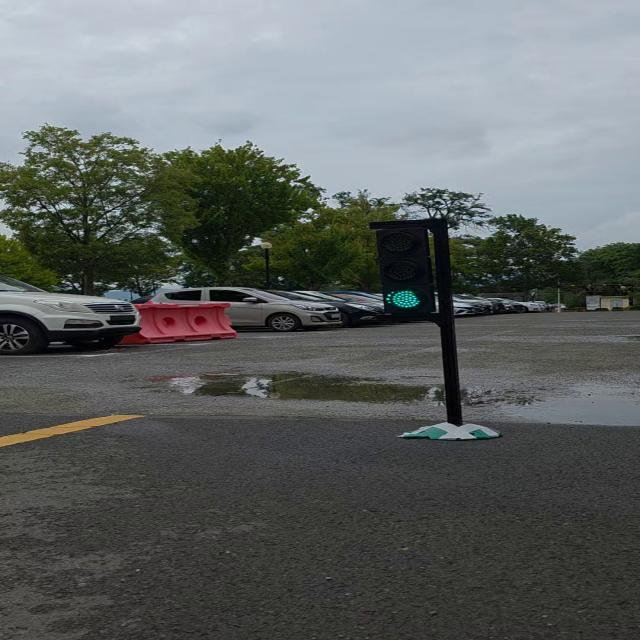green: (382, 224, 448, 318)
